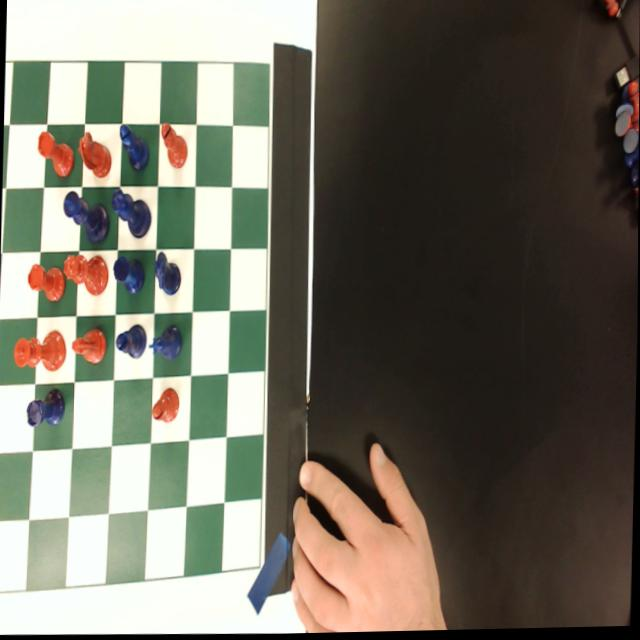B: (116, 120, 150, 175), (112, 320, 148, 362)
K: (60, 187, 109, 245)
N: (151, 249, 182, 302), (147, 323, 182, 363)
Q: (109, 183, 151, 240)
R: (24, 385, 65, 431), (110, 254, 145, 297)
b: (158, 120, 187, 169), (150, 385, 179, 425)
k: (11, 327, 67, 373)
n: (75, 128, 111, 178), (70, 324, 107, 365)
q: (61, 252, 109, 297)
r: (35, 129, 74, 178), (26, 259, 64, 302)
